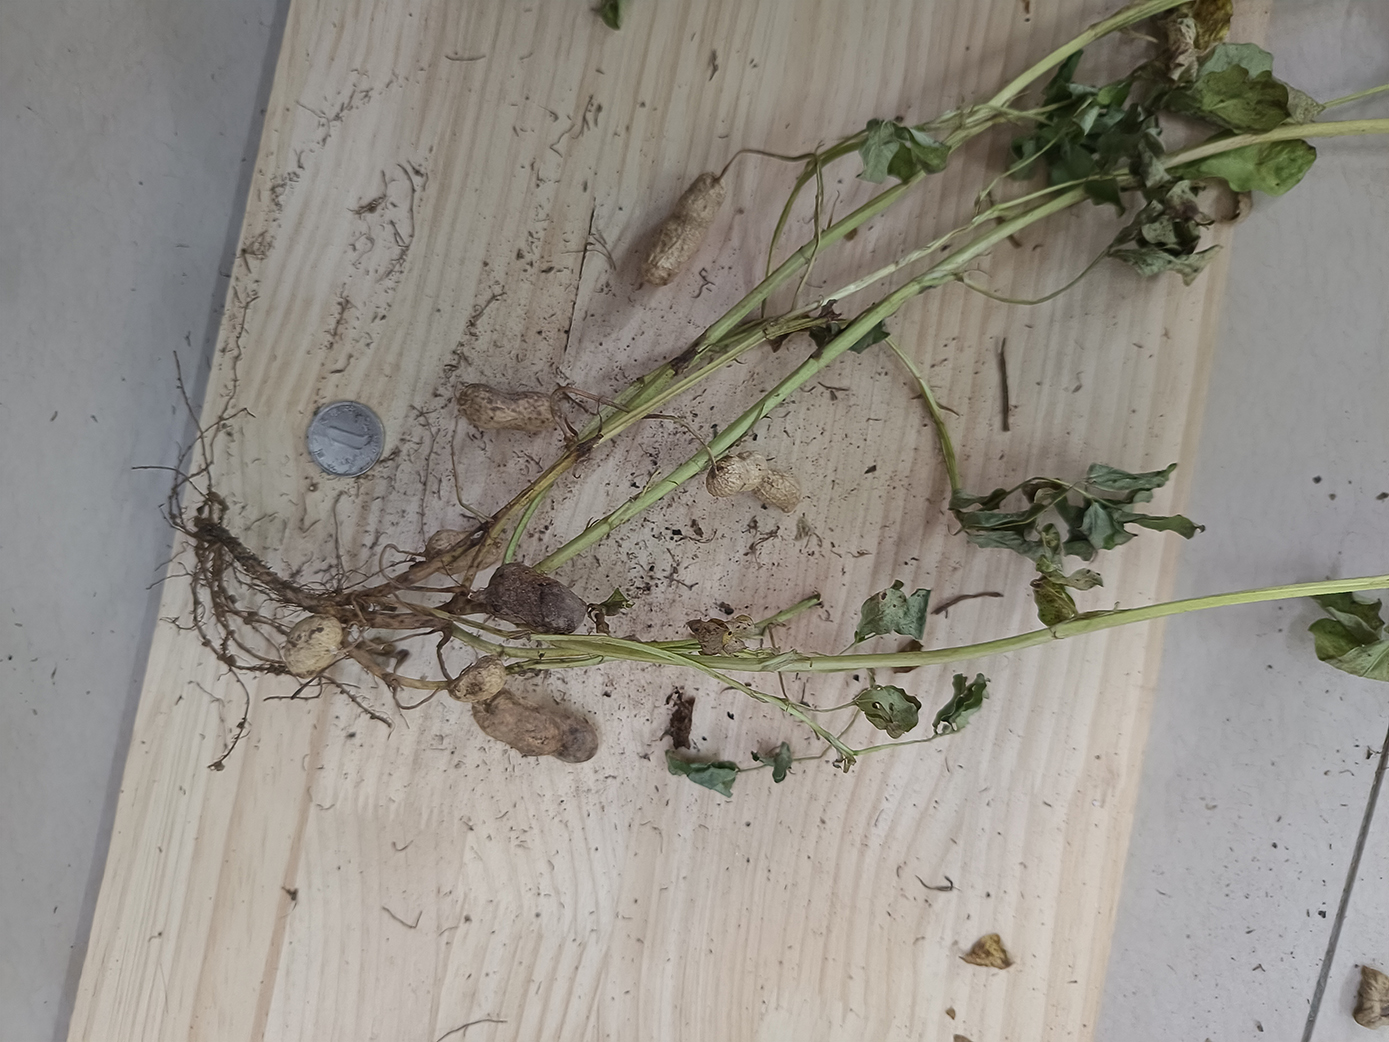h: (643, 173, 729, 286), (707, 450, 800, 513), (459, 382, 559, 435), (283, 615, 342, 680), (426, 528, 499, 572), (455, 656, 507, 703)
l: (474, 692, 602, 764), (488, 561, 584, 633)
